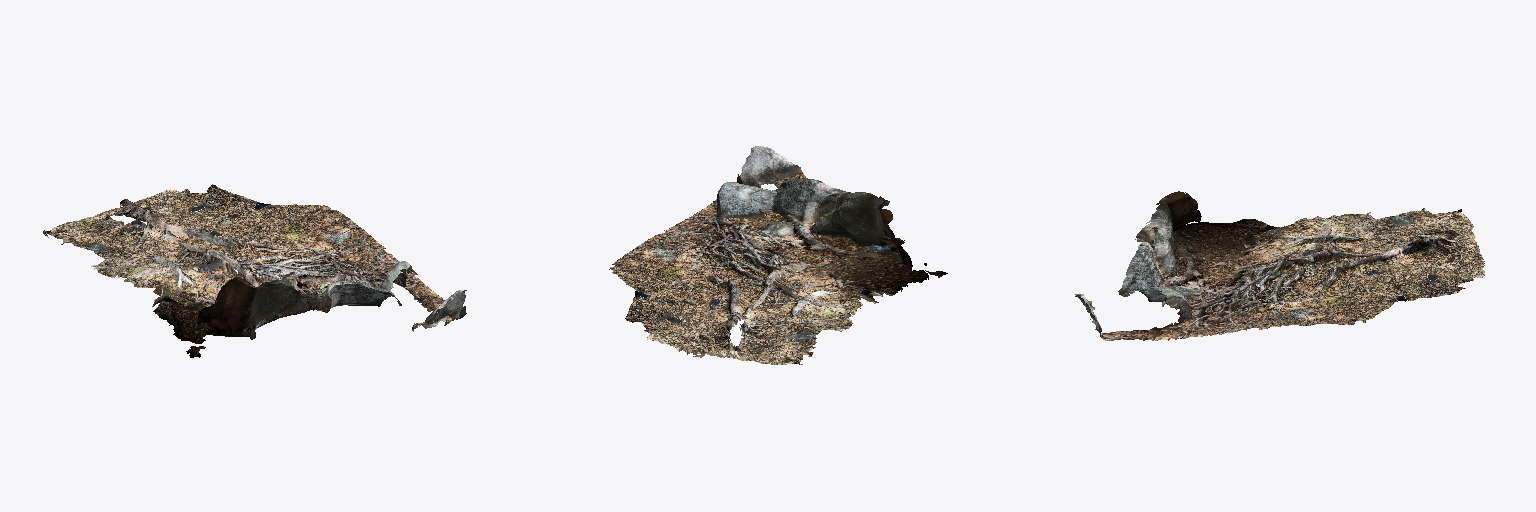
3 renders of one model, left to right at view 1: azimuth 30°, elevation 25°; view 2: azimuth 150°, elevation 25°; view 3: azimuth 270°, elevation 25°, orthographic.
Parts seen in each view (by area): view 1: mesh_0; view 2: mesh_0; view 3: mesh_0.
Part boxes in pixels (bbox=[...]): mesh_0: bbox=[43, 184, 466, 357]; mesh_0: bbox=[609, 146, 947, 364]; mesh_0: bbox=[1075, 191, 1485, 340].
Bounding box in the file's own units: 3.41 × 0.8224 × 4.96.
1 materials, 1 textured.